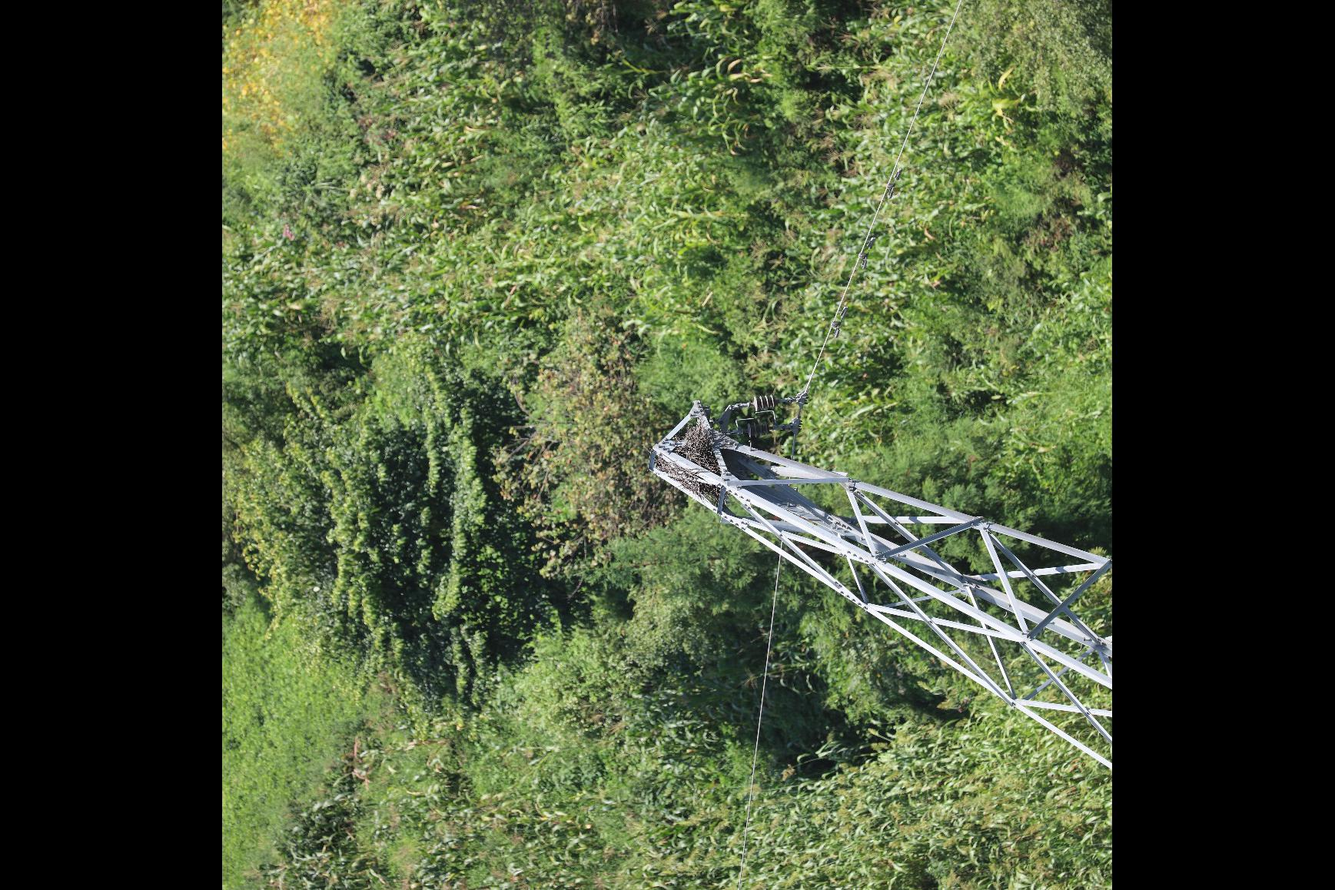damper: (855, 235, 878, 271), (829, 304, 850, 340), (884, 165, 905, 201)
nest: (653, 422, 722, 499)
